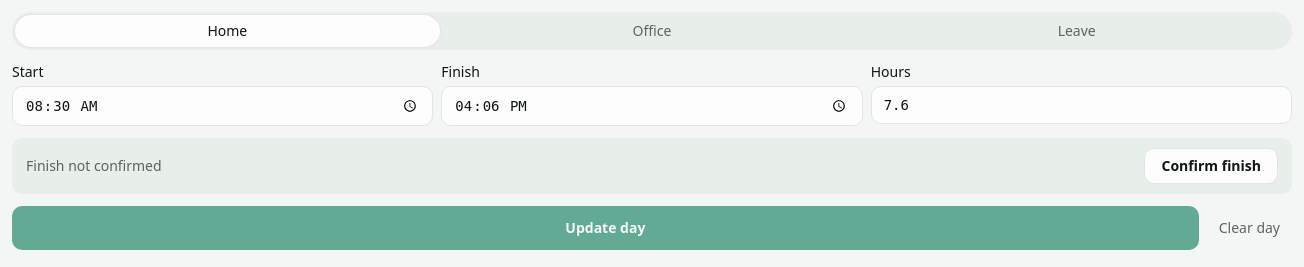
Test: DayEditor › confirm finish › is disabled once the start differs from the saved one
Replace the text in the time field labelled "Start" with "09:00" at point(223, 106), box [12,86,433,126]
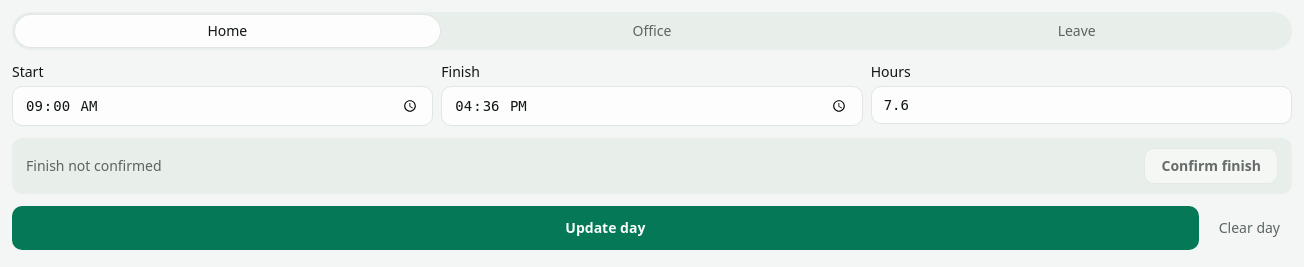
Check: the button "Confirm finish" is disabled, box [1144,148,1278,184]
Check: the button "Update day" is enabled, box [12,206,1199,250]
